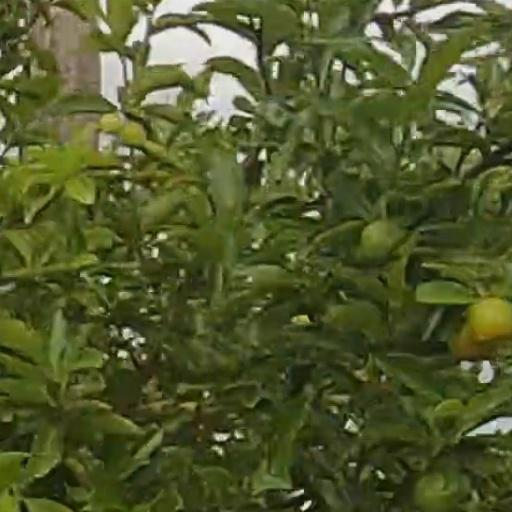acerola_verde: (363, 220, 397, 255), (417, 475, 452, 506)
acerola_vermelha: (472, 298, 507, 334)
